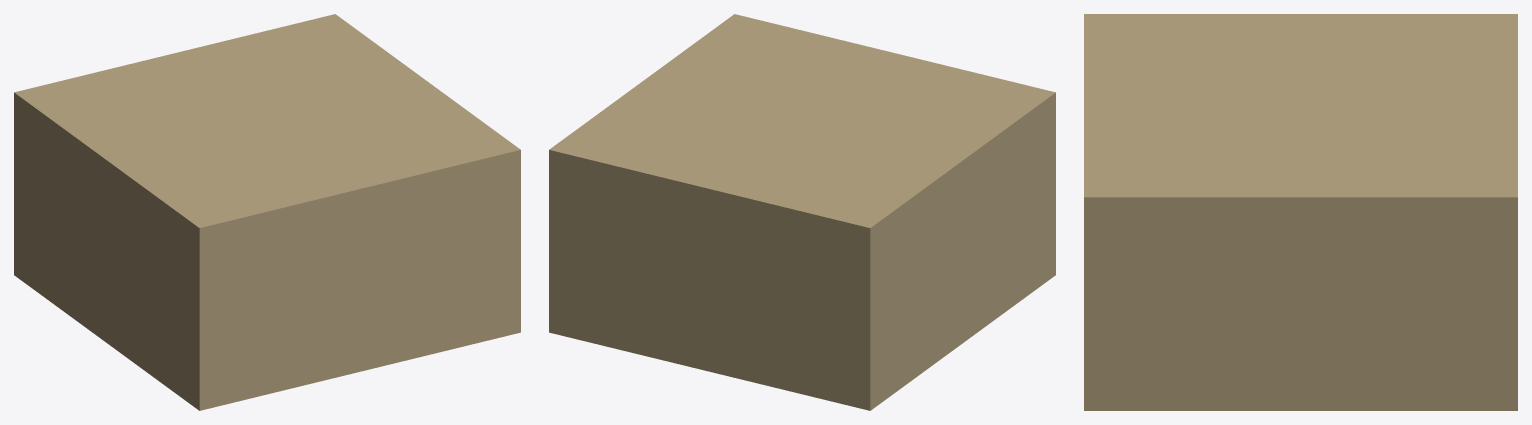
Rendered from cypress_planter_collision_0.fbx.
3 renders of one model, left to right at view 1: azimuth 30°, elevation 25°; view 2: azimuth 150°, elevation 25°; view 3: azimuth 270°, elevation 25°, orthographic. The views are drawn at different scales.
Visible parts, largest first — view 1: Planter collider.001; view 2: Planter collider.001; view 3: Planter collider.001.
Part boxes in pixels (x1,y1,x2,y2): Planter collider.001: [14, 14, 520, 410]; Planter collider.001: [549, 14, 1055, 410]; Planter collider.001: [1084, 14, 1517, 410].
Size of the model in its own units: 18400 by 18400 by 10000.
